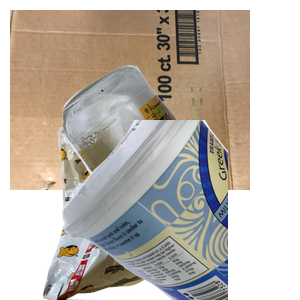cardboard: (10, 10, 250, 190)
glass: (60, 63, 300, 243)
plastic: (60, 120, 300, 300)
trash: (25, 120, 198, 300)
